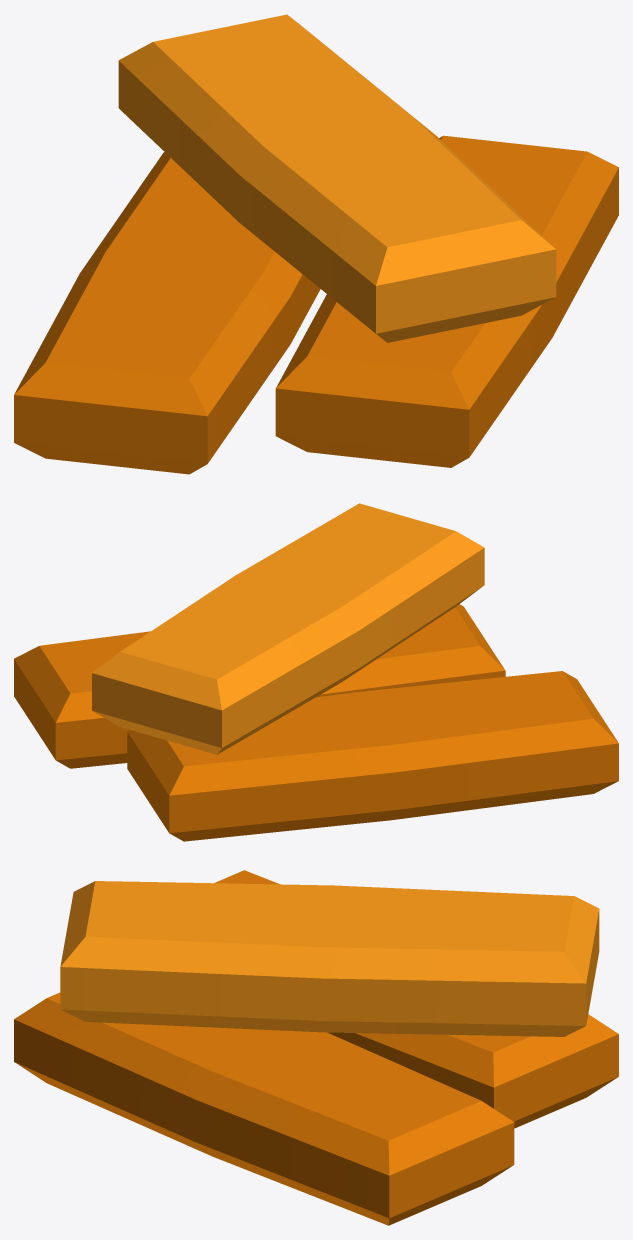
Rendered from GoldIngots3.fbx.
3 views of the same model, one above another, from view 1: azimuth 30°, elevation 25°; view 2: azimuth 150°, elevation 25°; view 3: azimuth 270°, elevation 25° (orthographic). The views are drawn at different scales.
Parts seen in each view (by area): view 1: Ingots; view 2: Ingots; view 3: Ingots.
Boxes of the visible parts, left/top/right/bottom form: Ingots: left=14, top=14, right=618, bottom=474; Ingots: left=14, top=503, right=618, bottom=841; Ingots: left=14, top=870, right=618, bottom=1225.
Size of the model in its own units: 55.31 by 16.12 by 47.43.
